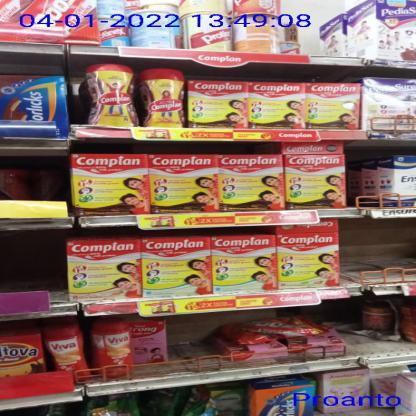Complan Kesar Badam: (67, 240, 140, 300)
Complan Pista Badam: (279, 234, 338, 290)
Complan Royal Chocolate: (72, 153, 152, 216), (148, 154, 218, 213), (216, 154, 284, 212), (284, 153, 342, 209), (190, 80, 252, 130), (249, 82, 306, 131), (307, 82, 362, 129)
